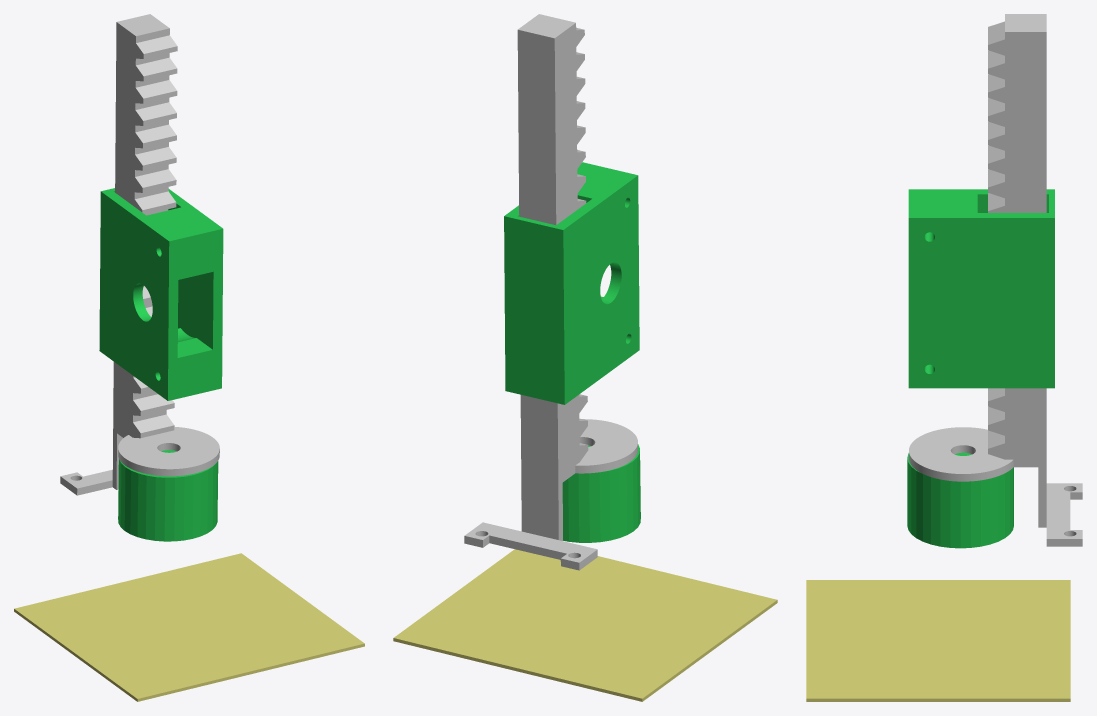
File: crane.glb
The picture shows the model from 3 angles, left to right: view 1: azimuth 30°, elevation 25°; view 2: azimuth 150°, elevation 25°; view 3: azimuth 270°, elevation 25°; orthographic projection. The views are drawn at different scales.
Visible parts, largest first — view 1: card, box, stift, magnet; view 2: card, box, stift, magnet; view 3: card, box, stift, magnet.
Boxes of the visible parts, left/top/right/bottom form: card: left=14, top=553, right=364, bottom=701; box: left=99, top=188, right=223, bottom=400; stift: left=60, top=14, right=219, bottom=495; magnet: left=118, top=450, right=218, bottom=541; card: left=393, top=549, right=777, bottom=701; box: left=504, top=162, right=639, bottom=404; stift: left=464, top=14, right=637, bottom=570; magnet: left=562, top=444, right=640, bottom=542; card: left=806, top=580, right=1070, bottom=701; box: left=908, top=189, right=1054, bottom=388; stift: left=909, top=14, right=1082, bottom=546; magnet: left=907, top=452, right=1013, bottom=548.
Bounding box in the file's own units: 0.0672 × 0.1625 × 0.066.
